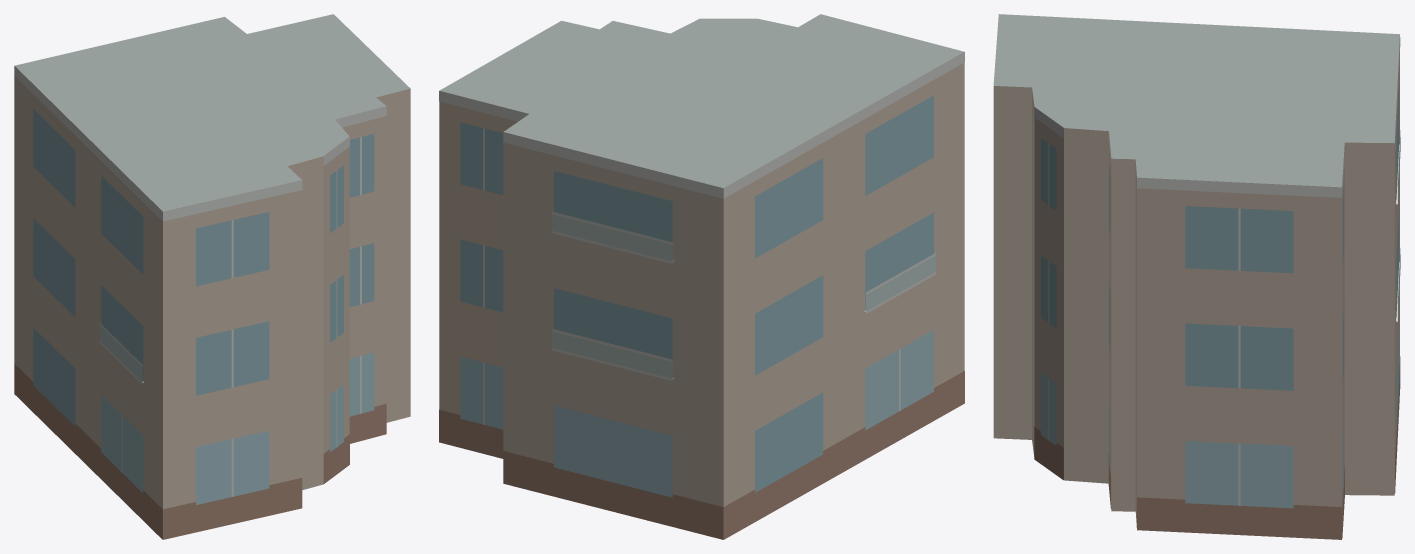
File: survey-upis-32544636.glb
3 renders of one model, left to right at view 1: azimuth 30°, elevation 25°; view 2: azimuth 150°, elevation 25°; view 3: azimuth 270°, elevation 25°, orthographic. The views are drawn at different scales.
Visible parts, largest first — view 1: survey-upis-32544636.tmp; view 2: survey-upis-32544636.tmp; view 3: survey-upis-32544636.tmp.
Part boxes in pixels (x1,y1,x2,y2): survey-upis-32544636.tmp: (14, 14, 410, 539); survey-upis-32544636.tmp: (439, 14, 964, 539); survey-upis-32544636.tmp: (993, 14, 1400, 539).
Size of the model in its own units: 8.55 by 8.1 by 8.49.
